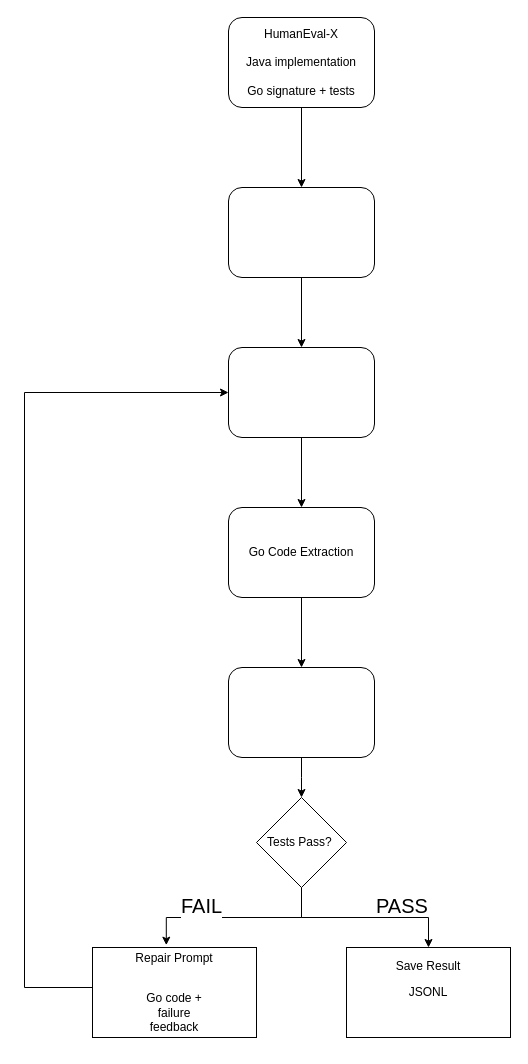
This 528x1064 diagram has some shape labels left out. Each missing label, with the centre of its shape:
"Docker Test Oracle go test" goes at point 301,712.
"Initial Migration Prompt" goes at point 301,232.
"LLM OpenAI / Ollama" goes at point 301,392.
